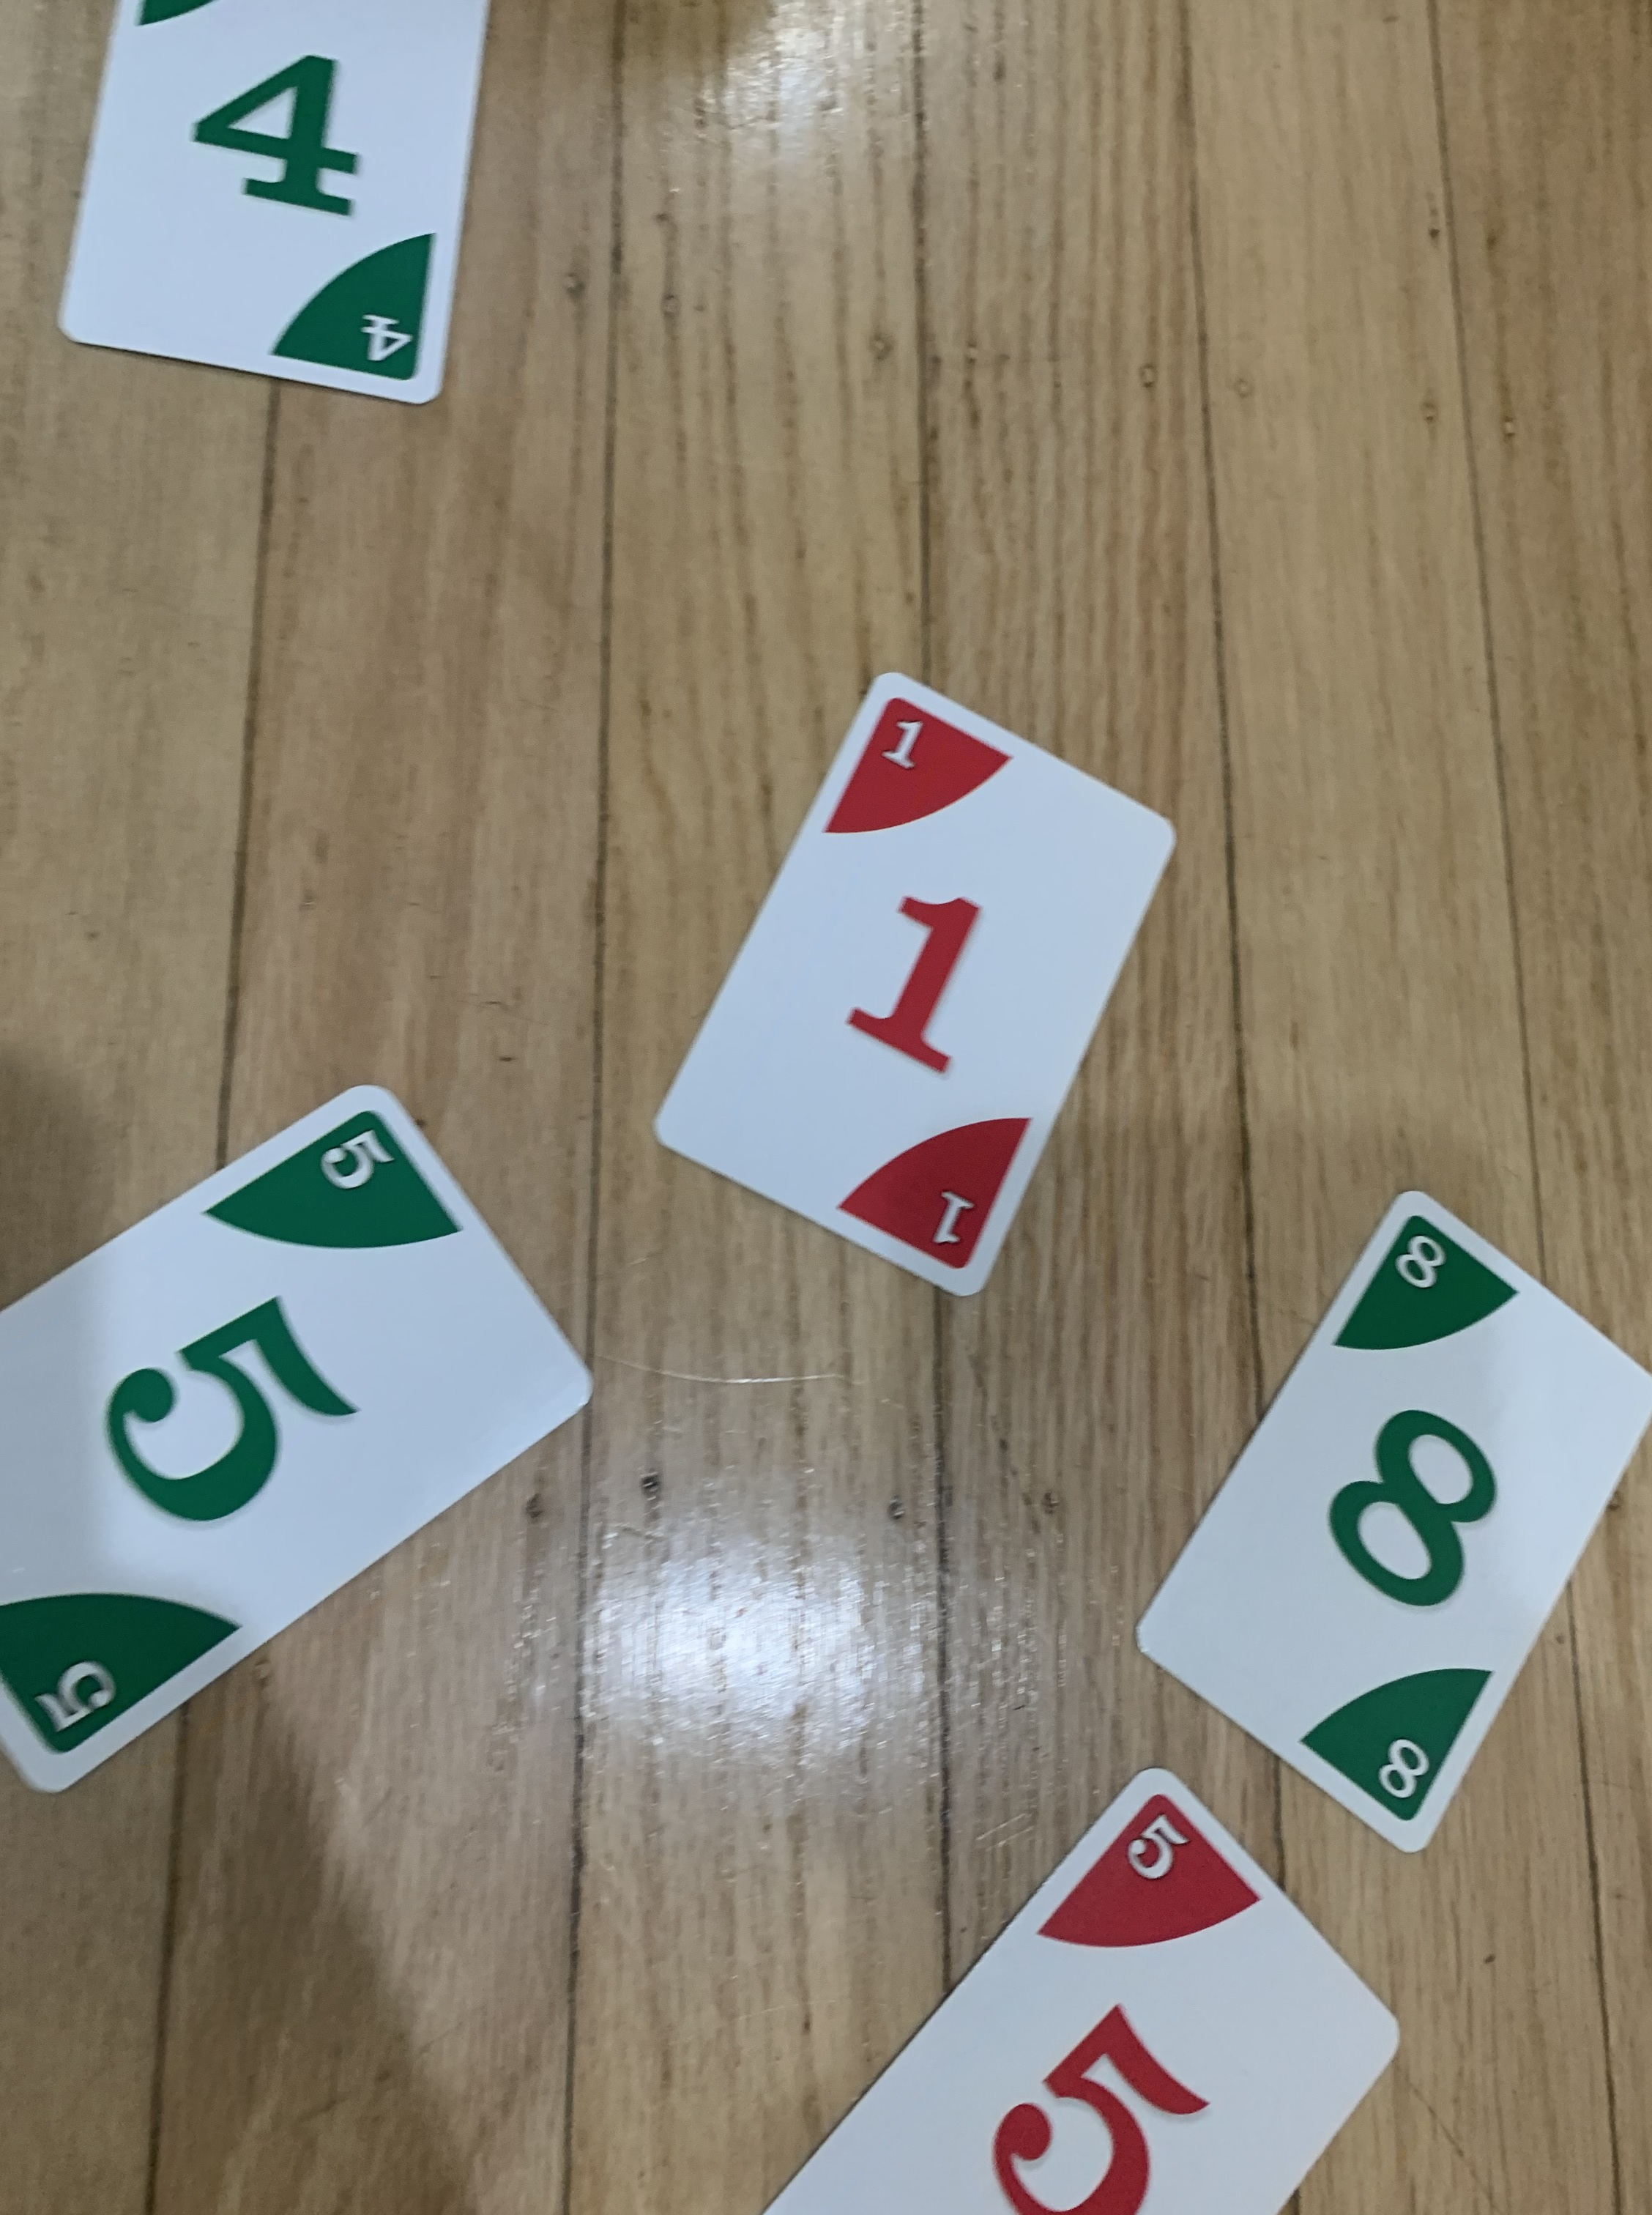eight: (1124, 1175, 1652, 1875)
five: (7, 1066, 626, 1816)
four: (31, 0, 517, 417)
one: (633, 656, 1215, 1318)
